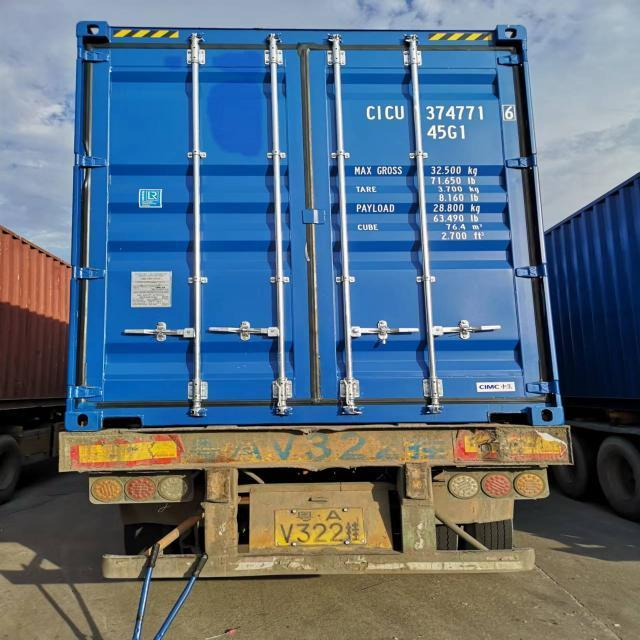ISO: (432, 124, 466, 141)
container_number: (368, 104, 517, 124)
